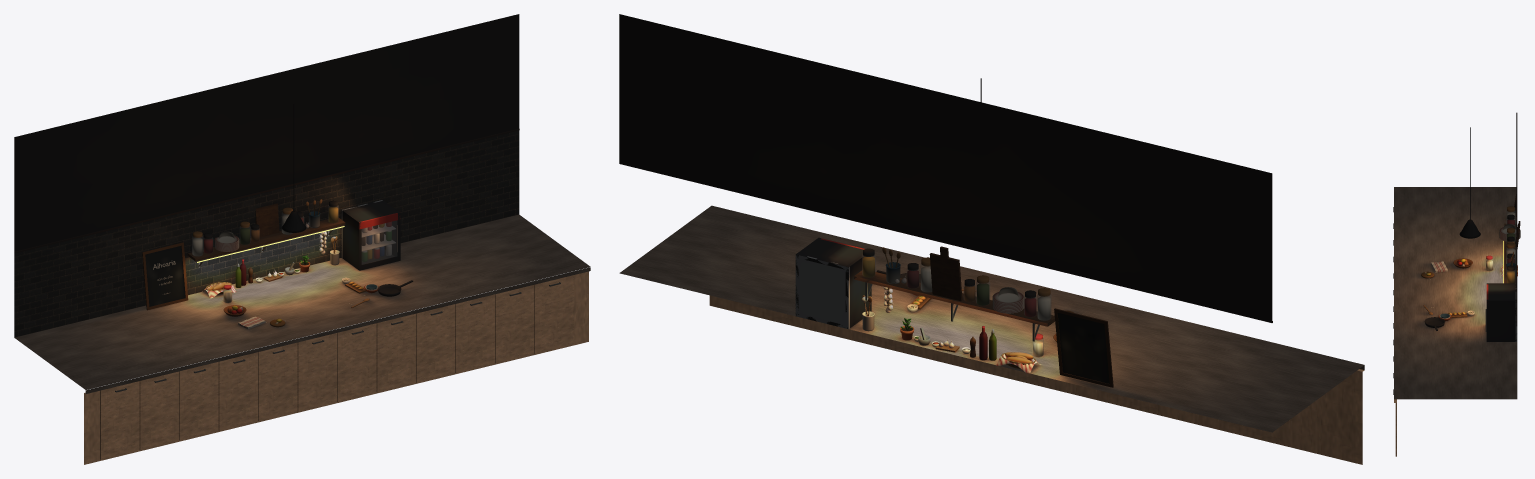
Rendered from cozinha.glb.
3 renders of one model, left to right at view 1: azimuth 30°, elevation 25°; view 2: azimuth 150°, elevation 25°; view 3: azimuth 270°, elevation 25°, orthographic. The views are drawn at different scales.
Parts seen in each view (by area): view 1: parede_alta, balcao_frente, tampo, parede, geladeira_bebidas, quadro_negro, geladeira_vidro, potes_conteudo, prateleira, potes_vidro, tabuinha; view 2: parede_alta, tampo, balcao_frente, geladeira_bebidas, quadro_negro, potes_conteudo, potes_vidro, prateleira, tabuinha; view 3: tampo, geladeira_bebidas, potes_conteudo, parede_alta, potes_vidro, luminaria, frente_props, pratos, prateleira, fruteira, pano_prato.
Boxes of the visible parts, bbox=[...] form: parede_alta: bbox=[14, 14, 519, 253]; balcao_frente: bbox=[84, 271, 588, 464]; tampo: bbox=[14, 214, 590, 393]; parede: bbox=[14, 130, 519, 337]; geladeira_bebidas: bbox=[341, 200, 400, 270]; quadro_negro: bbox=[142, 242, 188, 310]; geladeira_vidro: bbox=[362, 220, 397, 264]; potes_conteudo: bbox=[192, 200, 338, 256]; prateleira: bbox=[187, 217, 345, 261]; potes_vidro: bbox=[192, 205, 338, 255]; tabuinha: bbox=[255, 203, 279, 237]; parede_alta: bbox=[619, 14, 1272, 322]; tampo: bbox=[619, 205, 1364, 432]; balcao_frente: bbox=[709, 295, 1364, 464]; geladeira_bebidas: bbox=[795, 237, 871, 329]; quadro_negro: bbox=[1054, 308, 1113, 387]; potes_conteudo: bbox=[862, 248, 1050, 320]; potes_vidro: bbox=[862, 254, 1051, 320]; prateleira: bbox=[854, 270, 1054, 326]; tabuinha: bbox=[929, 246, 962, 301]; tampo: bbox=[1394, 187, 1517, 399]; geladeira_bebidas: bbox=[1485, 283, 1517, 341]; potes_conteudo: bbox=[1506, 206, 1515, 283]; parede_alta: bbox=[1516, 112, 1517, 326]; potes_vidro: bbox=[1506, 210, 1515, 282]; luminaria: bbox=[1459, 127, 1480, 238]; frente_props: bbox=[1421, 271, 1444, 330]; pratos: bbox=[1499, 224, 1520, 241]; prateleira: bbox=[1504, 223, 1516, 283]; fruteira: bbox=[1453, 258, 1472, 268]; pano_prato: bbox=[1431, 261, 1447, 272].
Size of the model in its own units: 6.4 by 3.35 by 1.62.
Materials: 33 (5 with a texture image).
